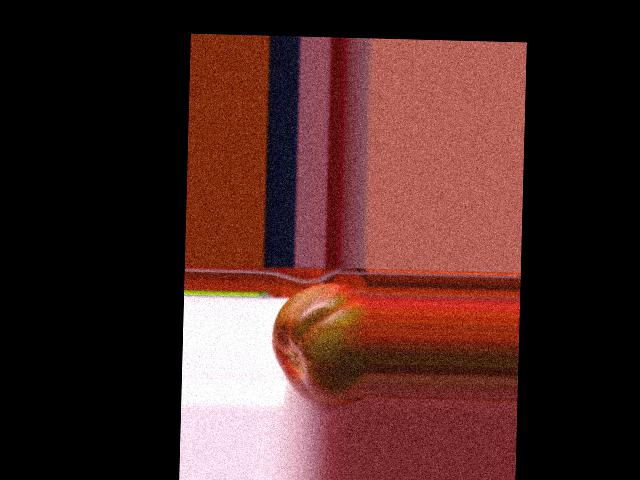tomato: (270, 281, 368, 405)
